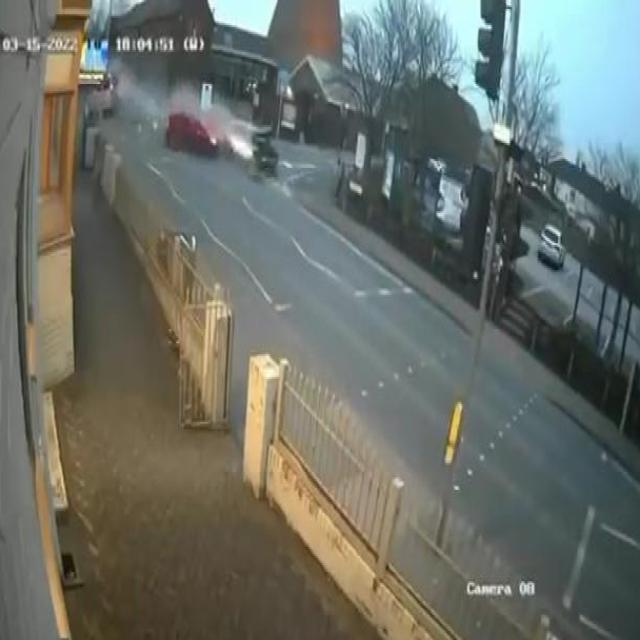accident: (160, 98, 280, 194)
